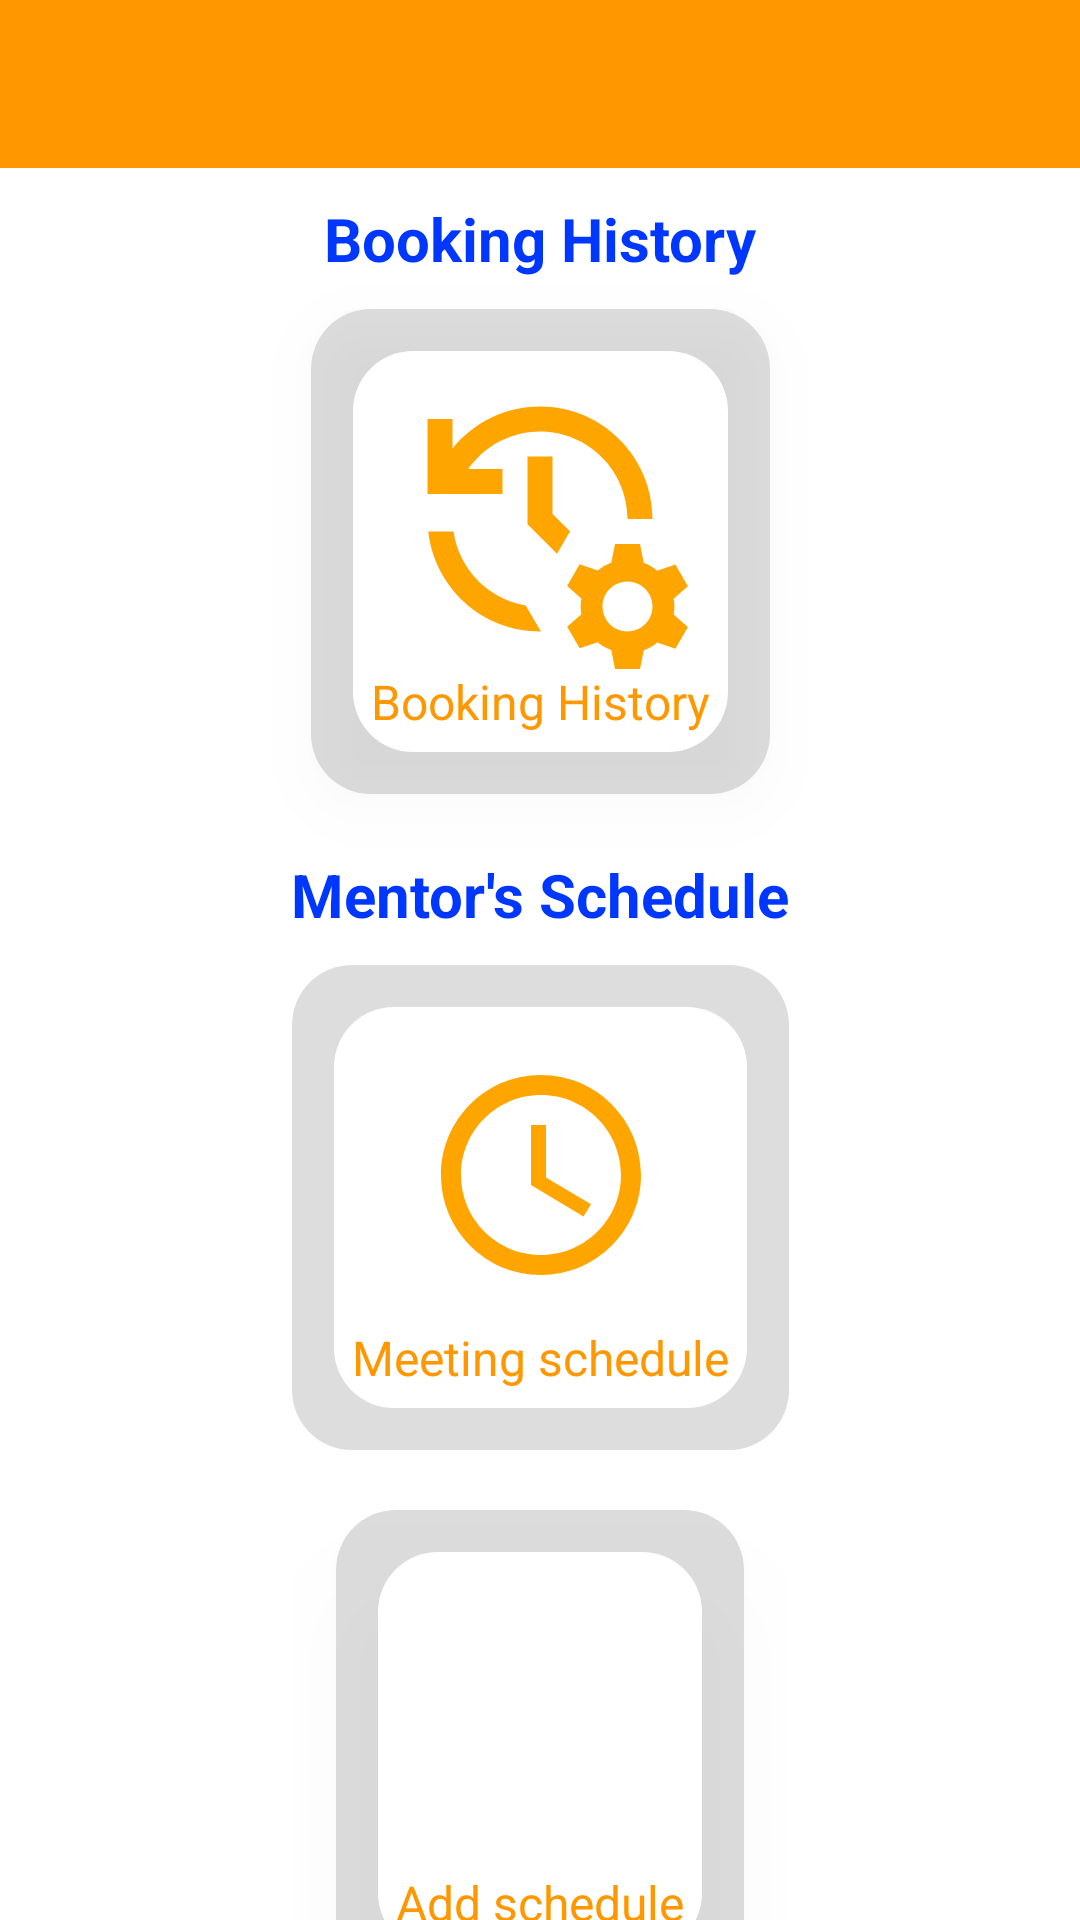

Icons on this 1080 × 1920 Android screen, each with the point to tap as [x,y]:
manage history: [557,537]
